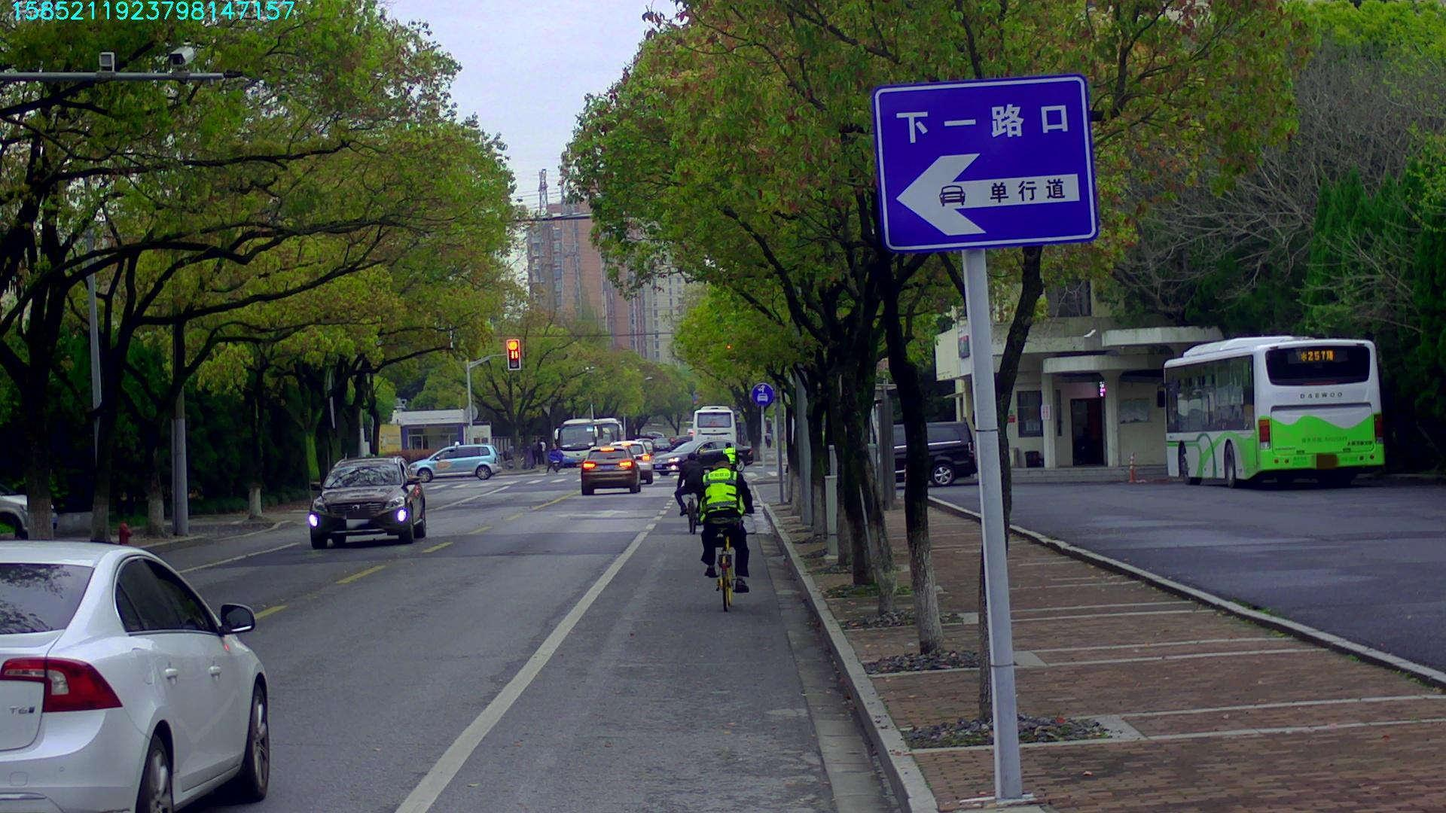red: (506, 340, 520, 369)
